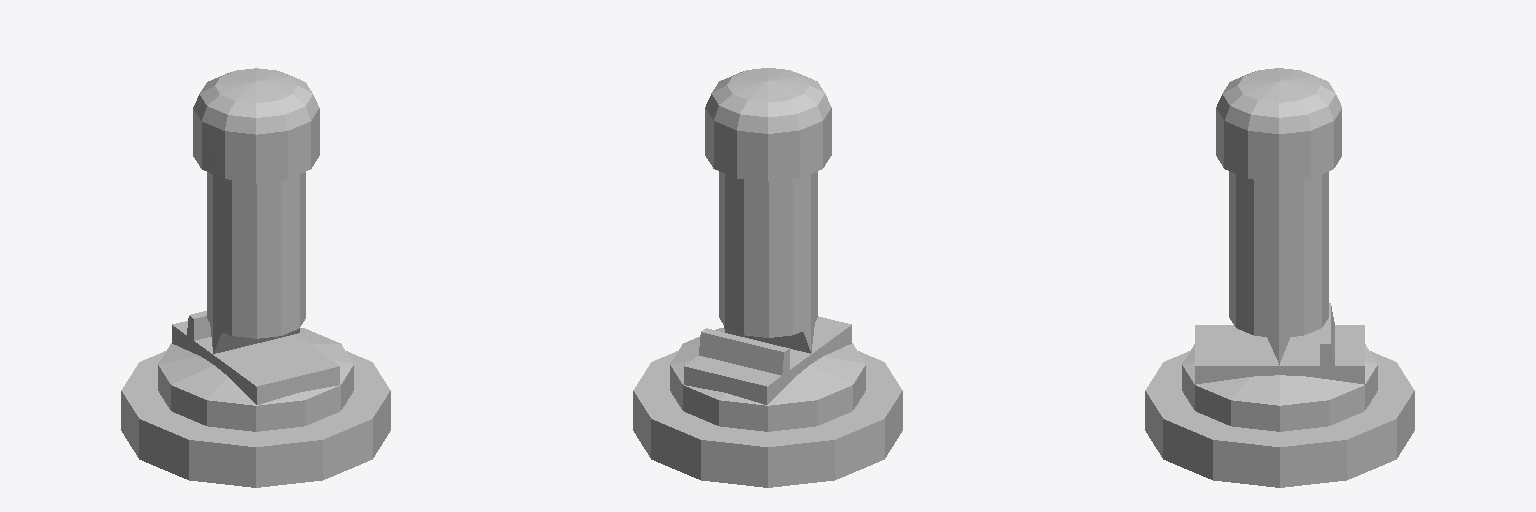
Rendered from Sw_APU - On.obj.
3 views of the same model, side by side, from view 1: azimuth 30°, elevation 25°; view 2: azimuth 150°, elevation 25°; view 3: azimuth 270°, elevation 25° (orthographic).
Parts seen in each view (by area): view 1: Switch, LockNut, SwitchBase, Slider, LockingTine; view 2: Switch, LockNut, SwitchBase, Slider, LockingTine; view 3: Switch, LockNut, SwitchBase, Slider, LockingTine.
Part boxes in pixels (x1,y1,x2,y2): Switch: (193,68,319,353); LockNut: (121,351,390,487); SwitchBase: (158,328,353,431); Slider: (172,321,339,404); LockingTine: (187,311,210,341); Switch: (705,68,831,353); LockNut: (633,351,902,487); SwitchBase: (670,328,865,431); Slider: (684,316,851,404); LockingTine: (699,328,789,376); Switch: (1216,68,1341,364); LockNut: (1145,351,1414,487); SwitchBase: (1182,344,1377,431); Slider: (1195,325,1364,384); LockingTine: (1320,303,1334,367).
Bounding box in the file's own units: 6 × 8.61 × 6.